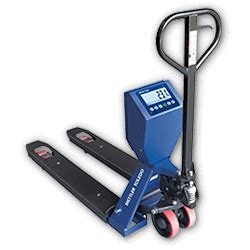Pallet Jack: (26, 7, 225, 238)
